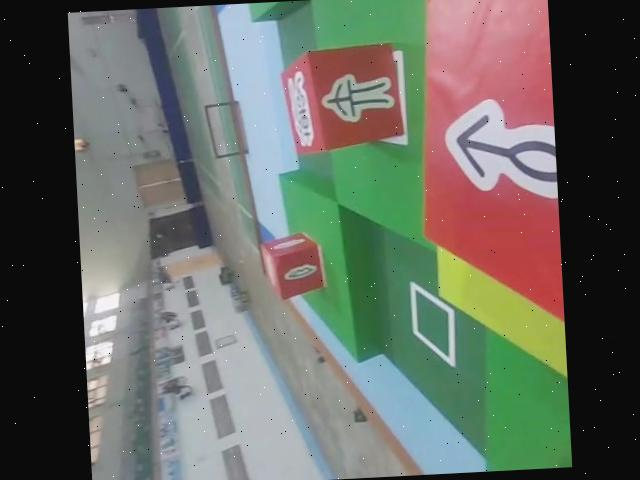R2 Fake: (280, 37, 409, 156)
R2 Real: (405, 0, 565, 345), (258, 231, 330, 301)
